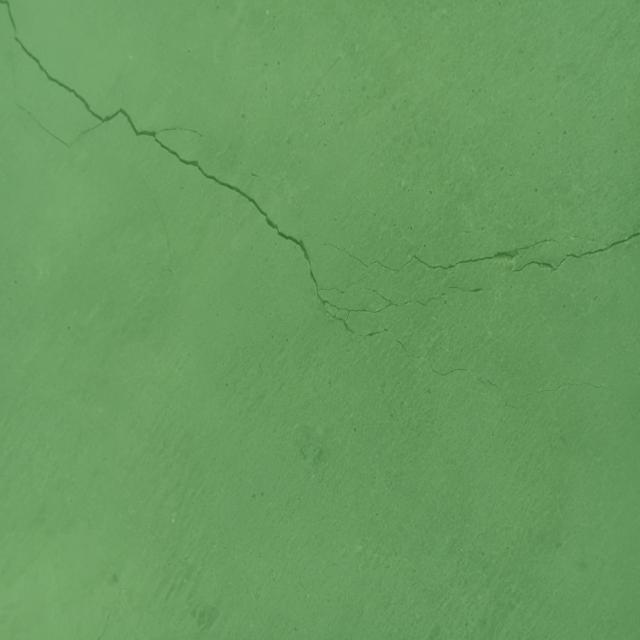crack: (0, 0, 504, 399), (324, 235, 596, 272), (512, 232, 640, 272), (522, 381, 614, 398)
